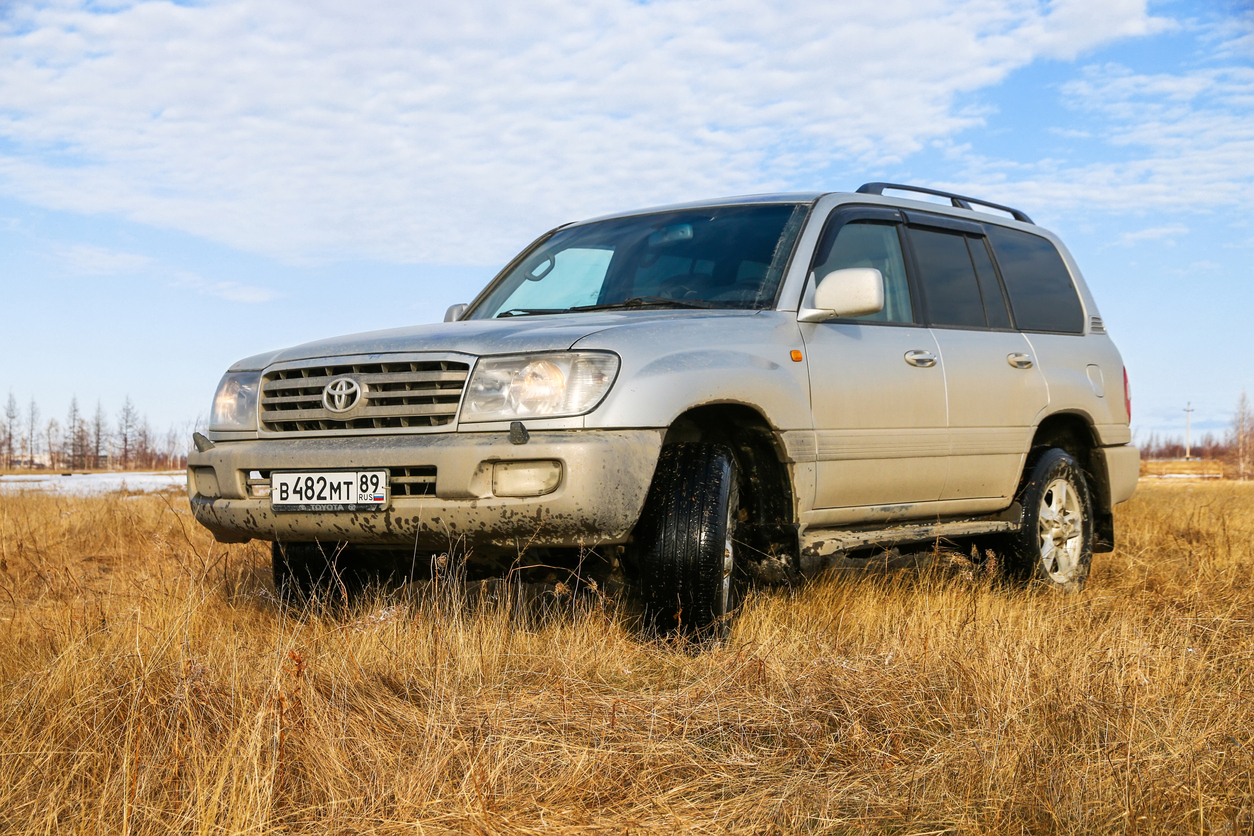car: (183, 173, 1148, 656)
